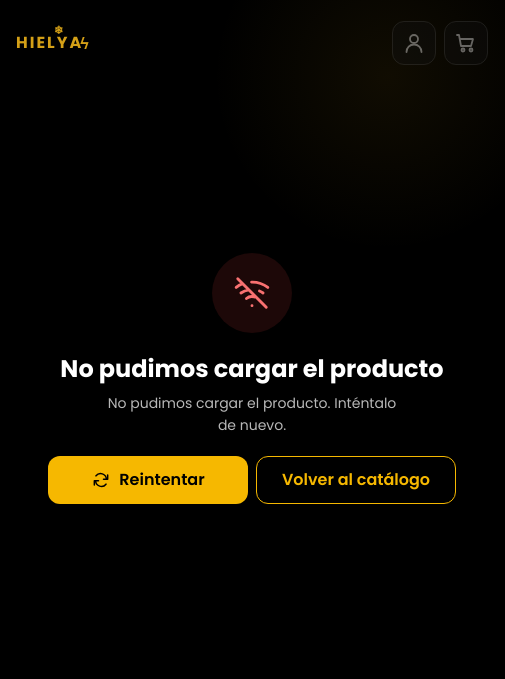
product-detail UI runtime wiring › renders a safe error and retries through the same read-only client
Expected: the text "No pudimos cargar el producto. Inténtalo de nuevo." is shown, top-left (102, 392), bottom-right (402, 436)
Click the button "Reintentar" at (148, 480), box top-left (48, 456), bottom-right (248, 504)
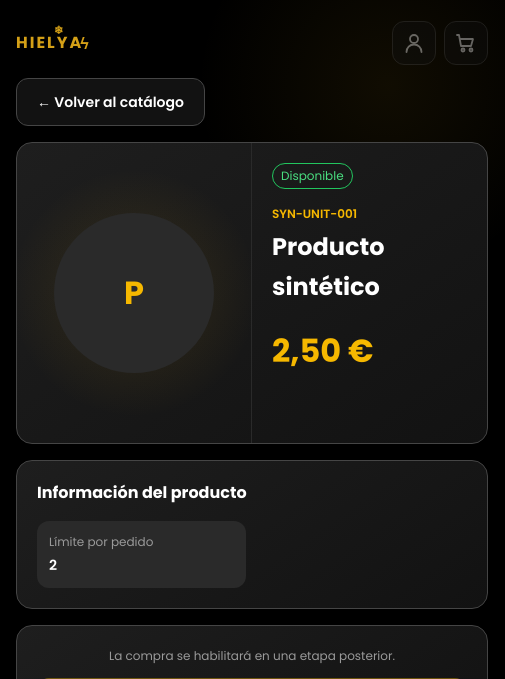
Result: the heading "Producto sintético" is shown at top-left (272, 230), bottom-right (385, 303)
